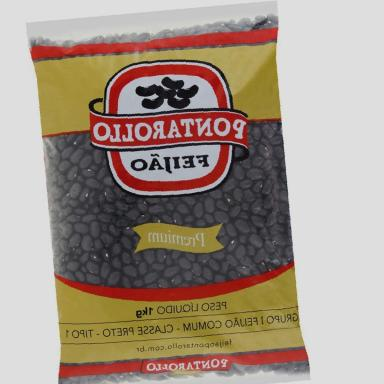beans package: (29, 4, 308, 383)
